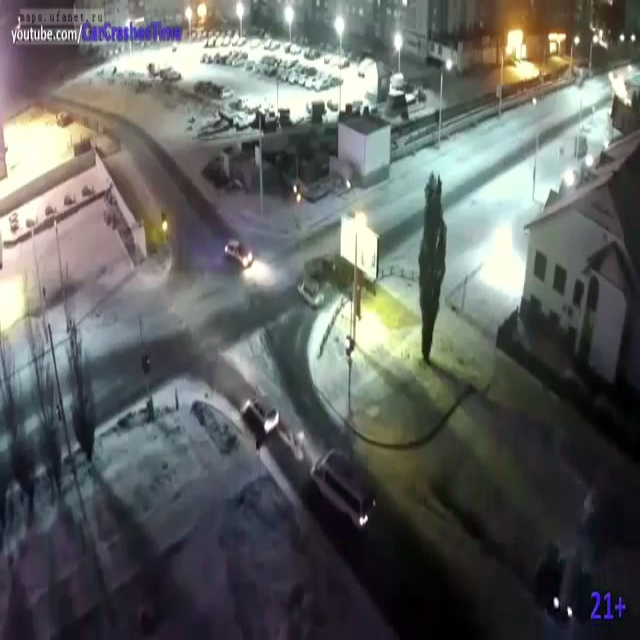acc: (292, 251, 336, 307)
